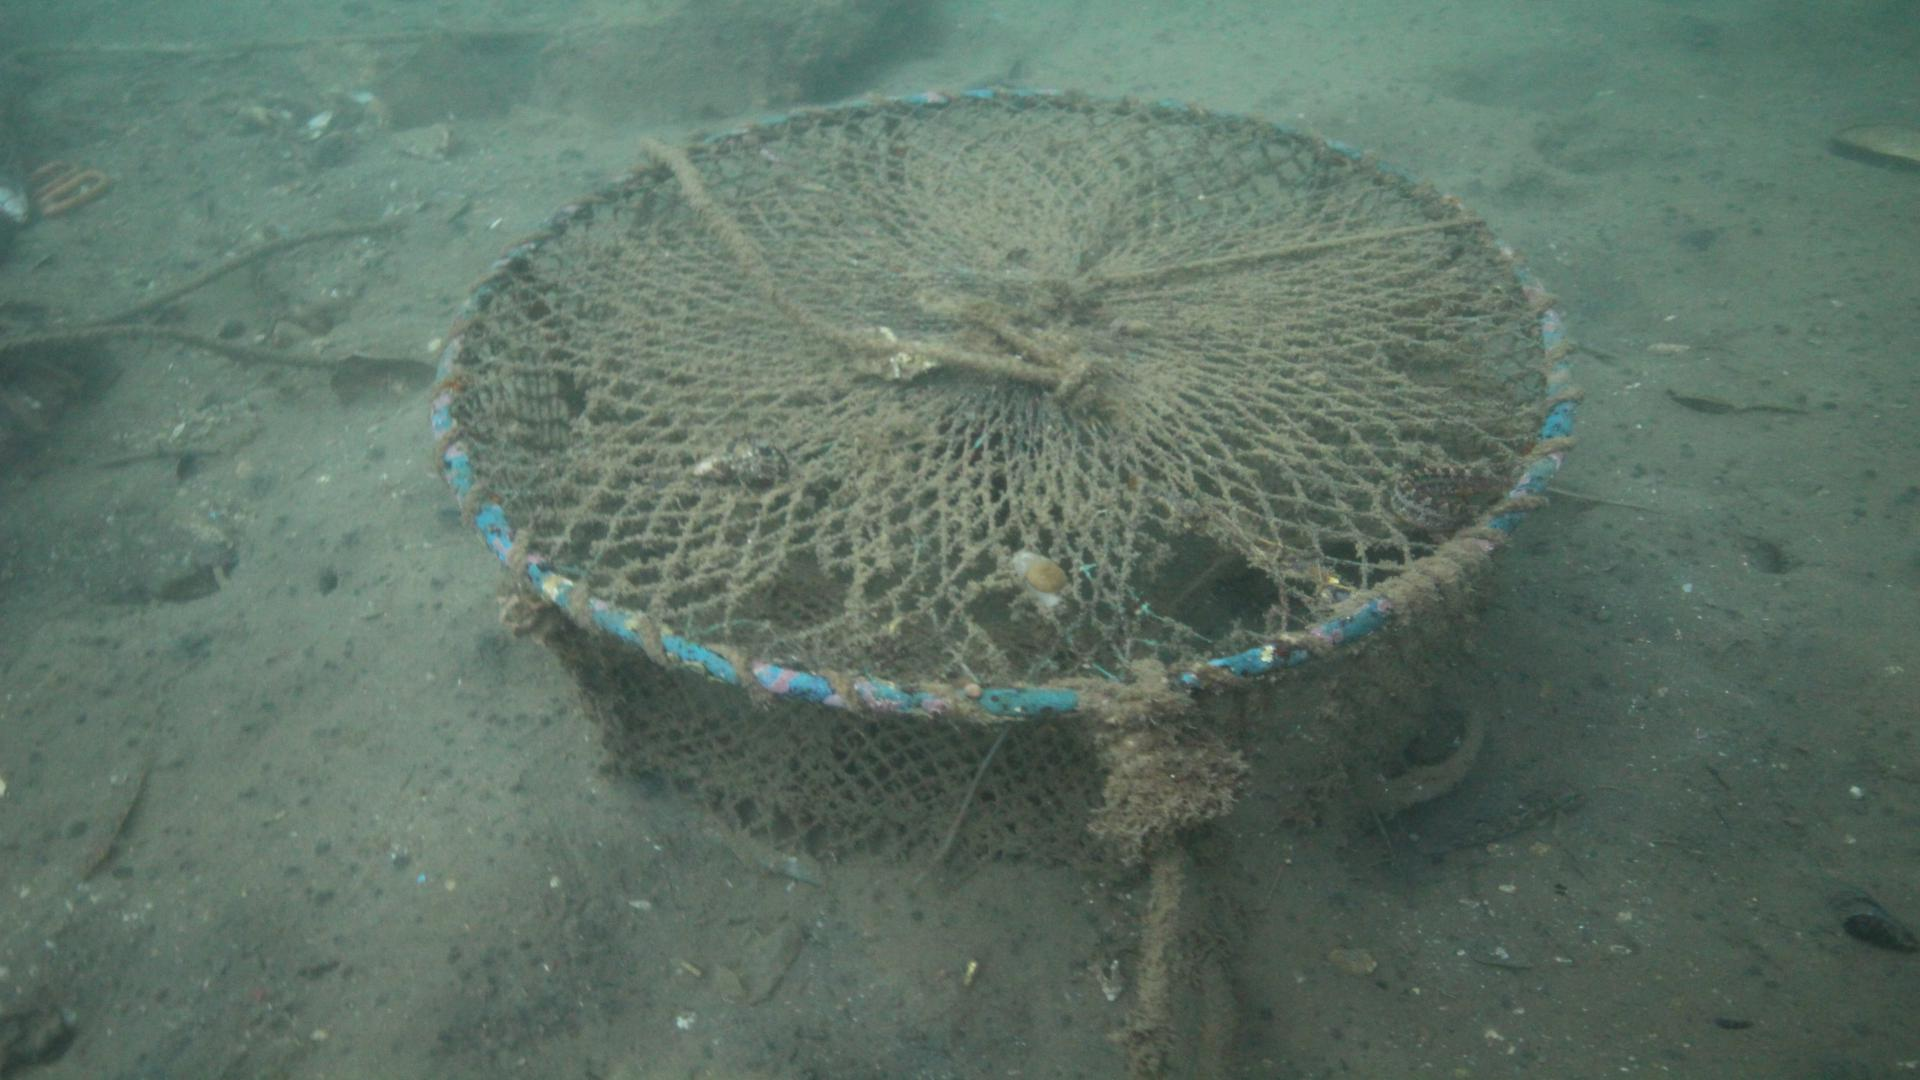circular fish trap: (429, 88, 1575, 861)
